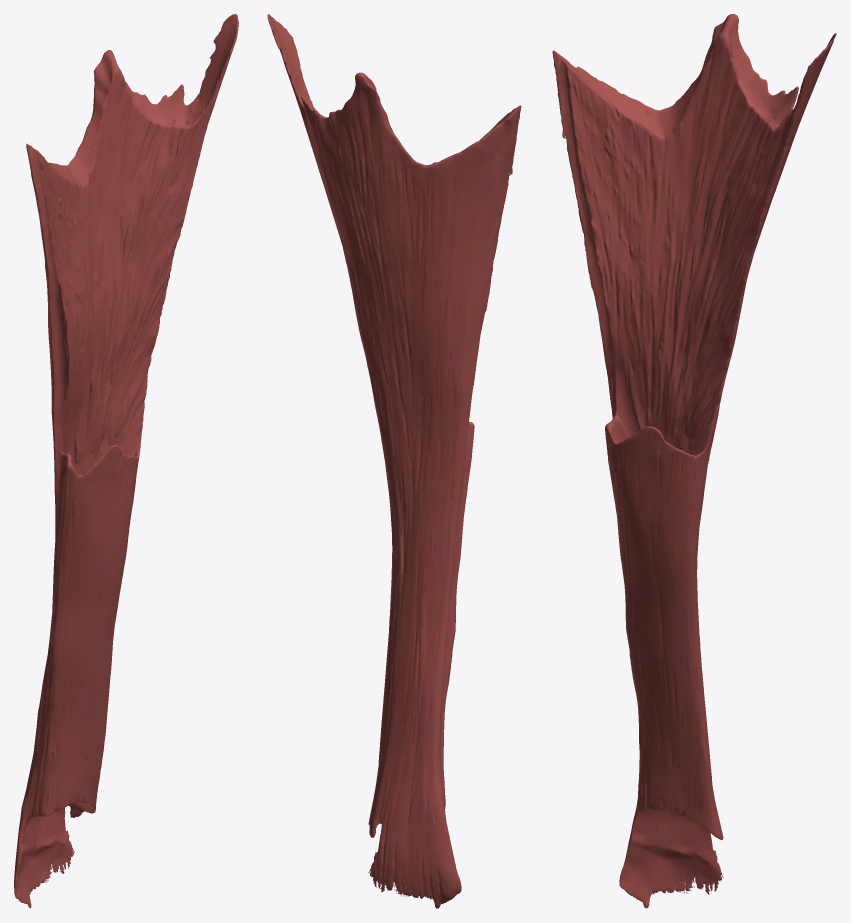
File: FMA264844.glb
3 renders of one model, left to right at view 1: azimuth 30°, elevation 25°; view 2: azimuth 150°, elevation 25°; view 3: azimuth 330°, elevation 25°, orthographic. The views are drawn at different scales.
Visible parts, largest first — view 1: FMA264844; view 2: FMA264844; view 3: FMA264844.
Part boxes in pixels (x1,y1,x2,y2): FMA264844: [14, 14, 238, 908]; FMA264844: [267, 14, 521, 908]; FMA264844: [552, 14, 836, 908].
Bounding box in the file's own units: 0.0613 × 0.2131 × 0.0258.
